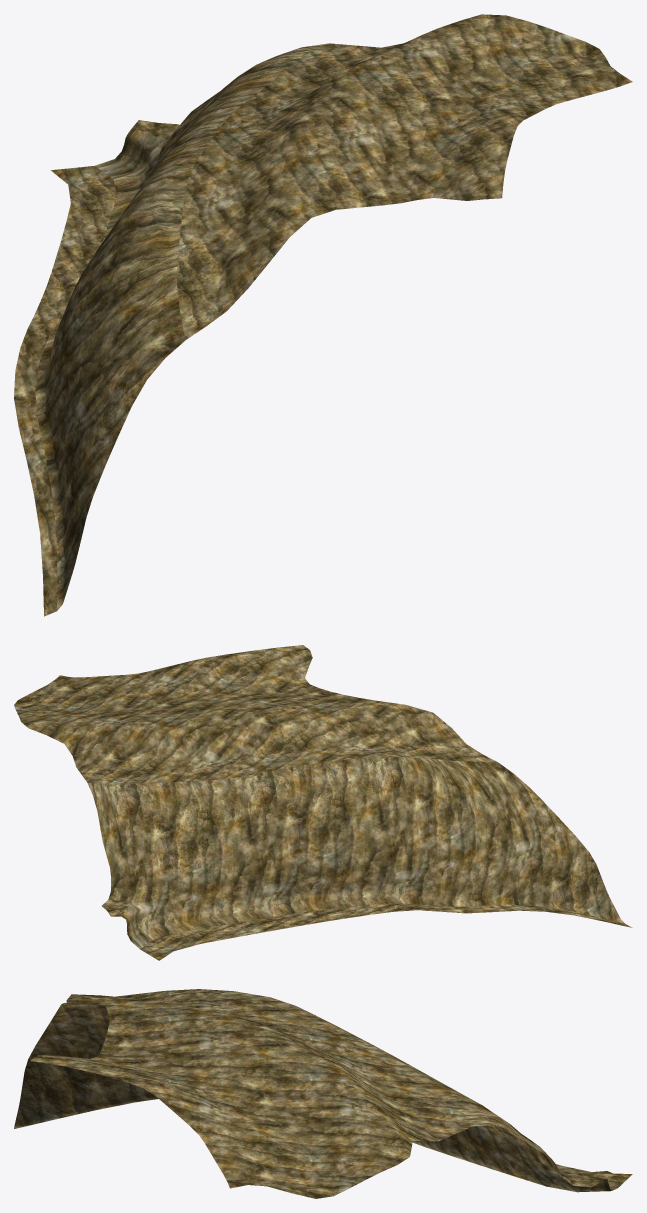
File: RM_PLAYSURFACE_FINAL_OBJECT02.fbx
3 views of the same model, one above another, from view 1: azimuth 30°, elevation 25°; view 2: azimuth 150°, elevation 25°; view 3: azimuth 270°, elevation 25° (orthographic). The views are drawn at different scales.
Visible parts, largest first — view 1: RM_PLAYSURFACE_FINAL_OBJECT02; view 2: RM_PLAYSURFACE_FINAL_OBJECT02; view 3: RM_PLAYSURFACE_FINAL_OBJECT02.
Part boxes in pixels (x1,y1,x2,y2): RM_PLAYSURFACE_FINAL_OBJECT02: (14,14,632,616); RM_PLAYSURFACE_FINAL_OBJECT02: (14,645,632,960); RM_PLAYSURFACE_FINAL_OBJECT02: (14,989,632,1198).
Bounding box in the file's own units: 325805 × 132828 × 264998.
Materials: 3 (3 with a texture image).
